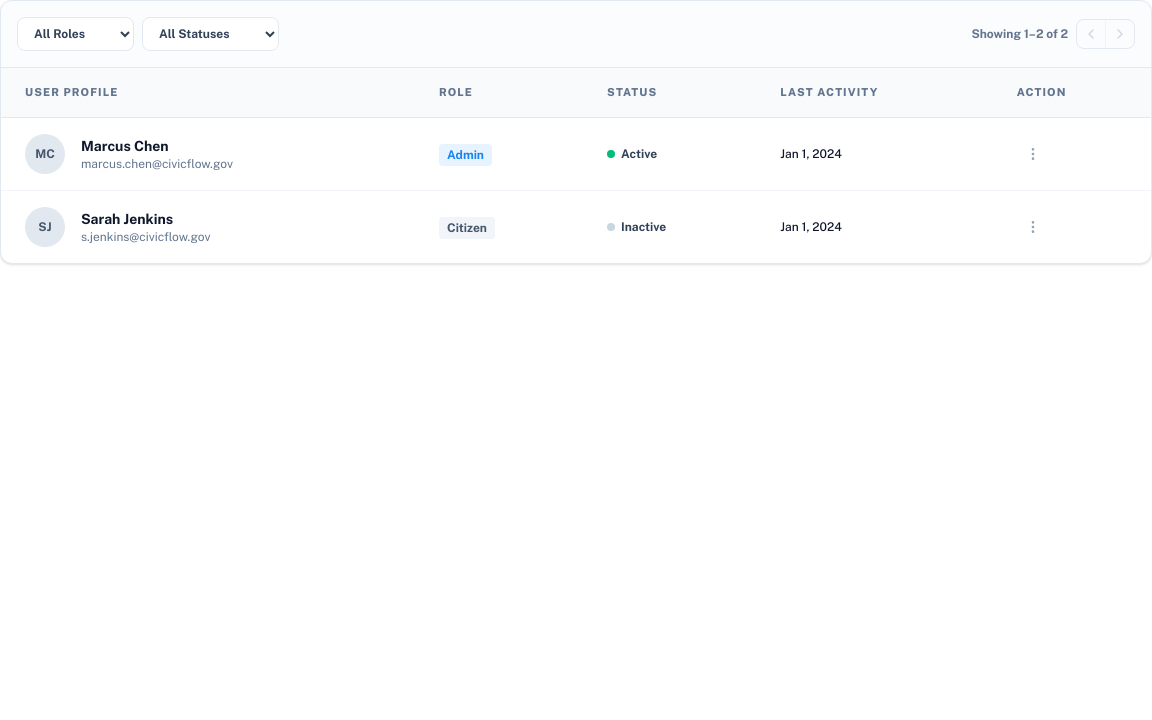
Test: UsersTable row actions › disables confirm button when reason is empty
This screenshot has width=1152, height=720.
Click the button named "User actions" in the row of "marcus.chen@civicflow.gov" at x=1033, y=154, box x1=1017 y1=138 x2=1049 y2=170
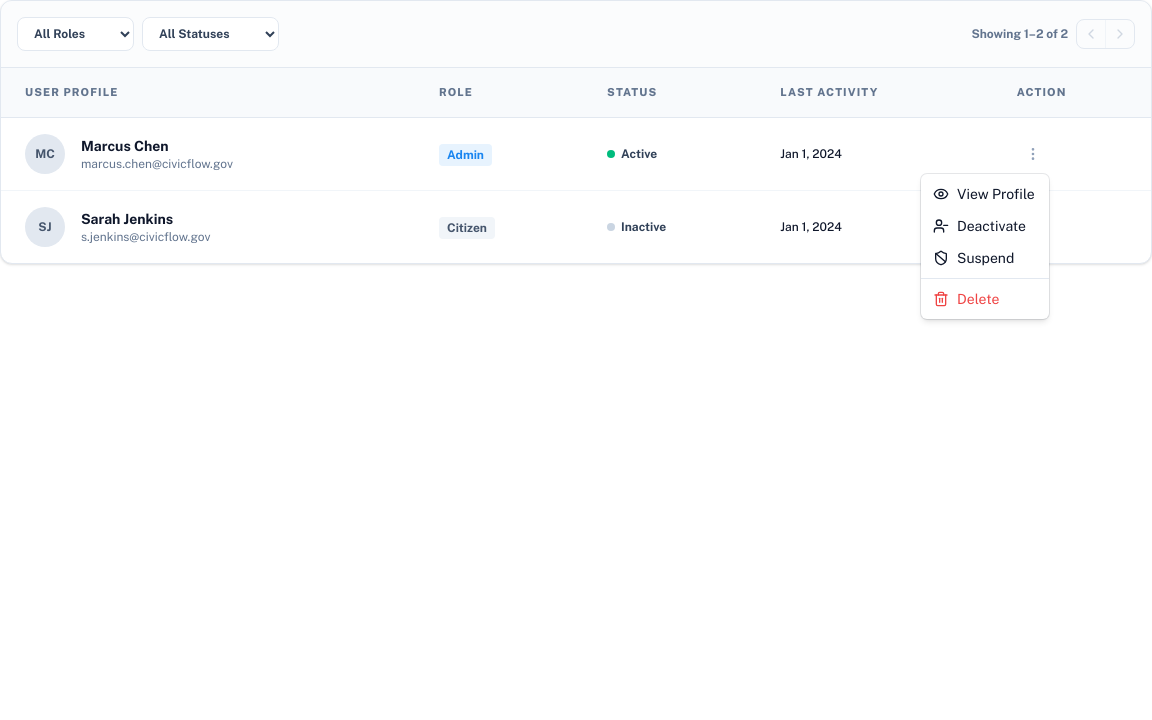
Check: the menu item "Delete" is shown
Click the menu item "Delete" at x=966, y=299, box x1=933 y1=291 x2=999 y2=307
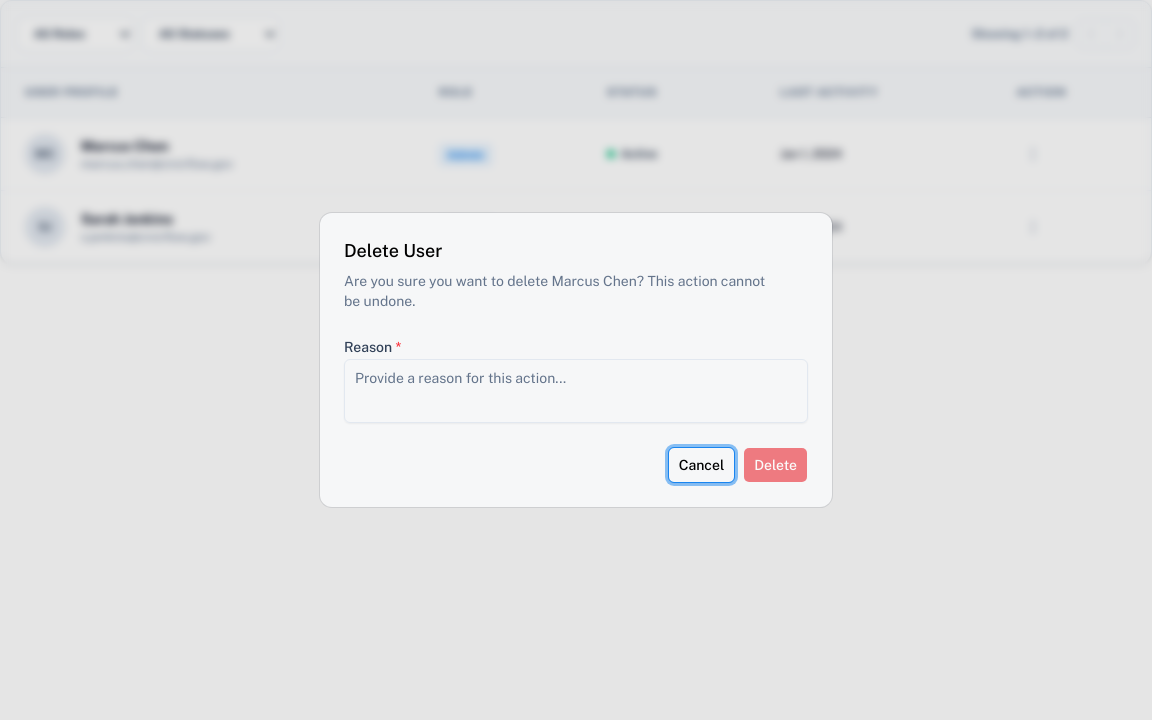
Check: the heading "Delete User" is shown, box x1=344 y1=237 x2=442 y2=265
